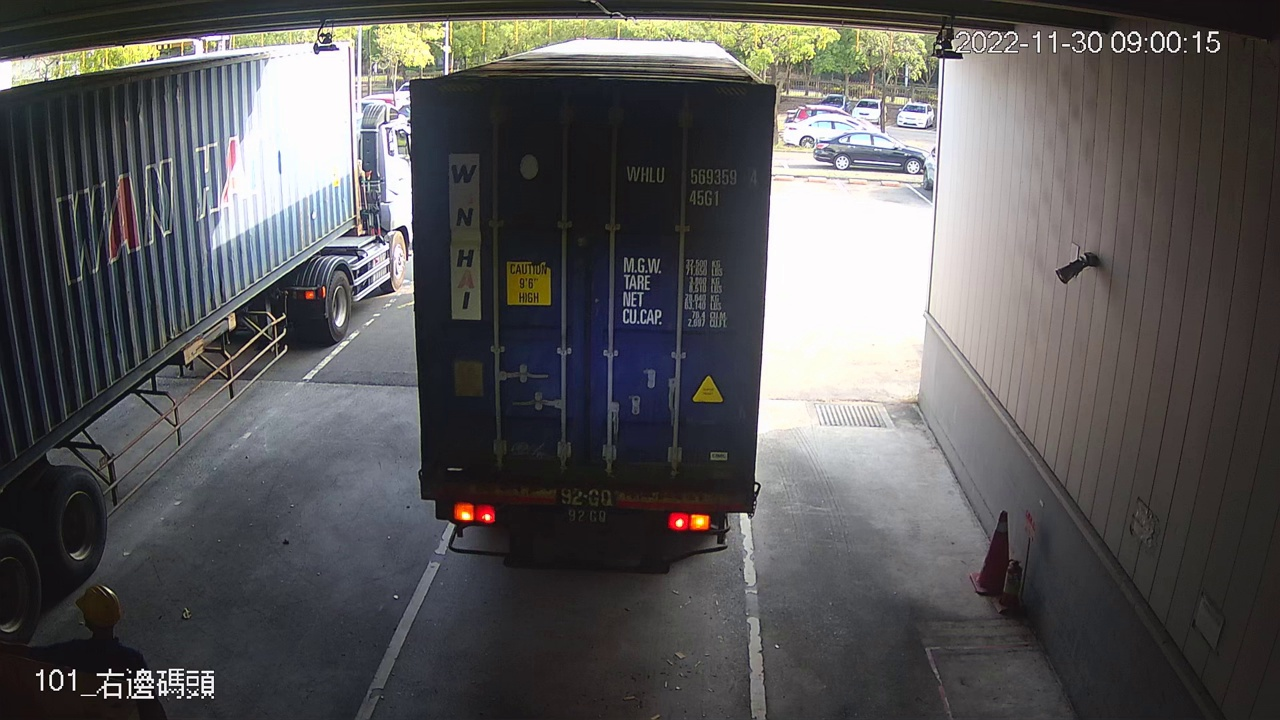container: (619, 154, 764, 213)
